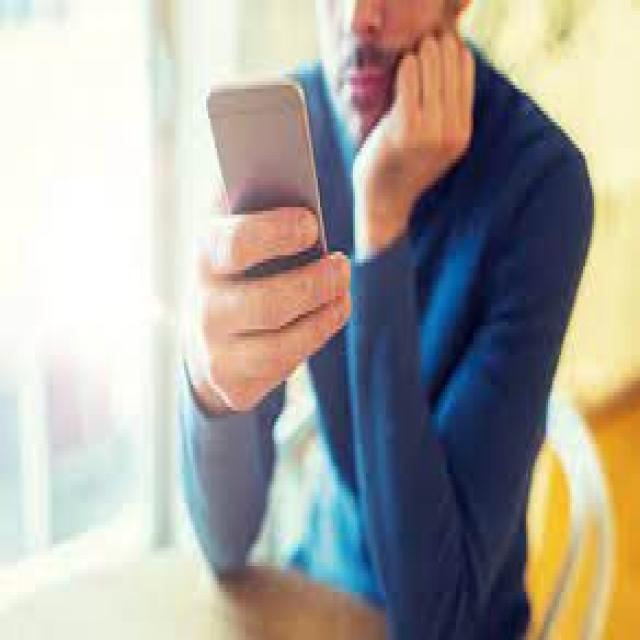Phone: (204, 80, 329, 278)
